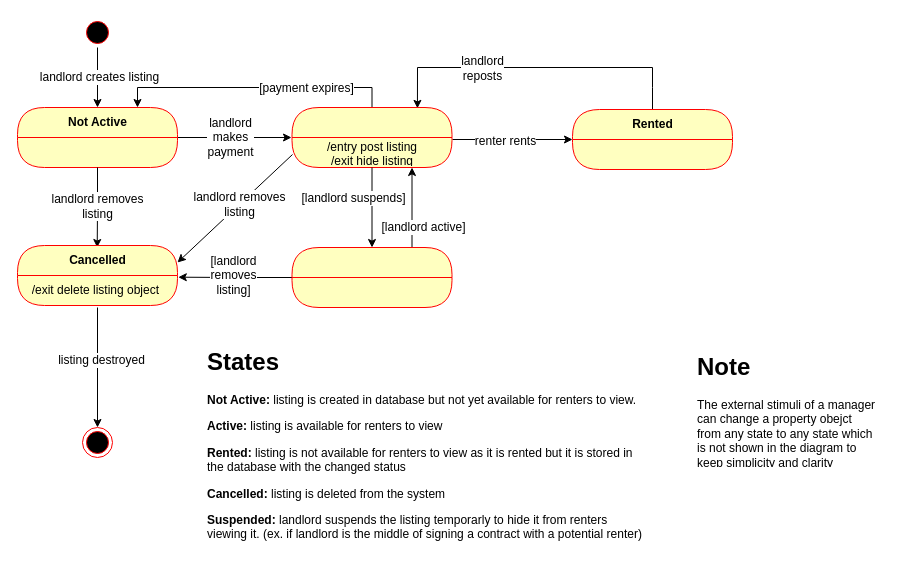
Some shapes in this 900 by 575 pixel diagram are drawn without their labels. The box of each missing label's shape, as (x1, y1, x2, y2) in pixels:
Active: (291, 106, 452, 168)
Suspended: (291, 246, 452, 308)
